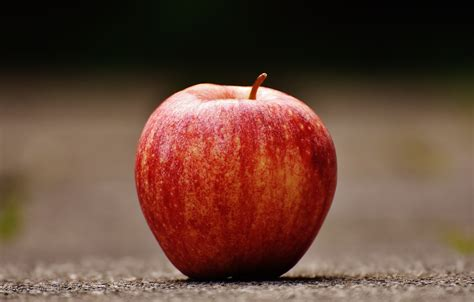apple: (128, 67, 345, 286)
